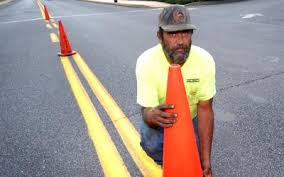cones: (158, 65, 204, 177), (53, 22, 78, 58), (39, 5, 50, 21)
